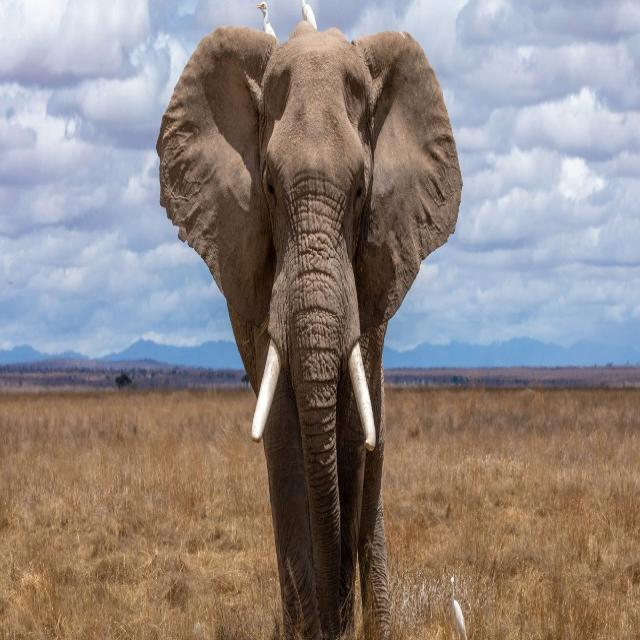elephant: (157, 20, 462, 639)
